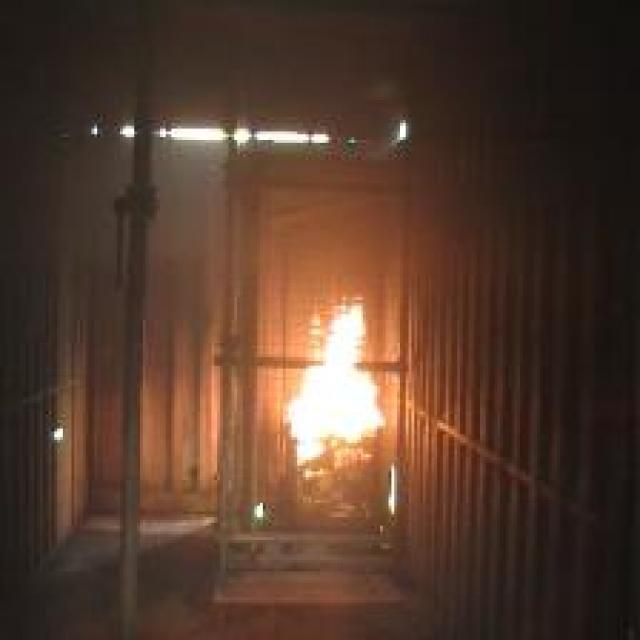Fire: (287, 292, 387, 468)
